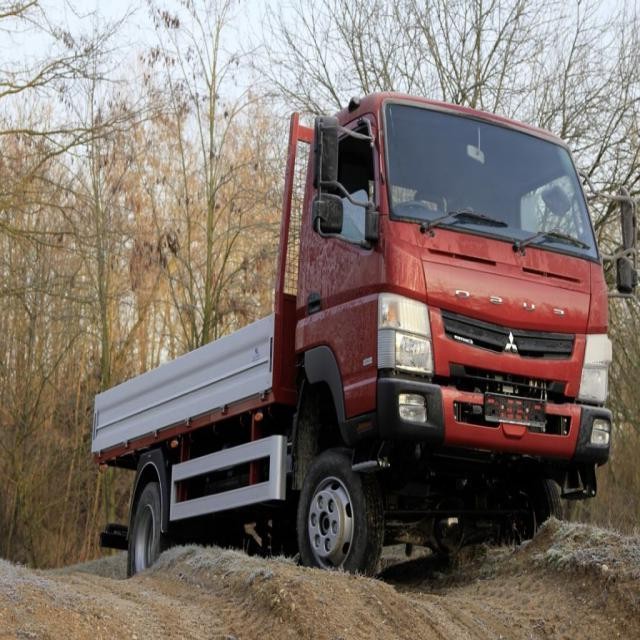truck: (91, 96, 636, 584)
